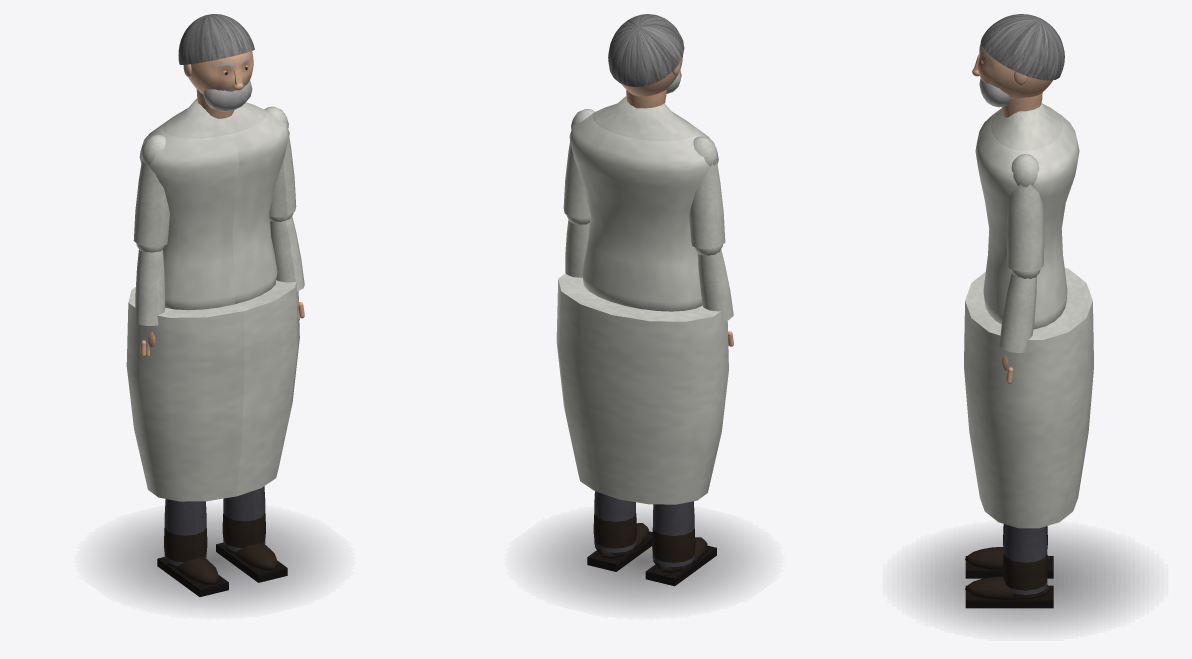
The model's file is npc_halloran.glb.
The picture shows the model from 3 angles, left to right: view 1: azimuth 30°, elevation 25°; view 2: azimuth 150°, elevation 25°; view 3: azimuth 270°, elevation 25°; orthographic projection. The views are drawn at different scales.
Visible parts, largest first — view 1: object 7, chest, object 12, head, shinL, shinR, armL, foreL, foreR, armR; view 2: object 7, chest, object 12, head, shinL, shinR, armL, foreL, armR, foreR; view 3: object 7, chest, object 12, head, shinR, armR, foreR, shinL.
Boxes of the visible parts, box(x1,y1,x2,y2) form: object 7: box(126, 280, 299, 501); chest: box(139, 89, 289, 310); object 12: box(102, 512, 327, 607); head: box(178, 14, 254, 111); shinL: box(157, 499, 228, 596); shinR: box(216, 486, 287, 582); armL: box(133, 134, 169, 247); foreL: box(135, 243, 165, 357); foreR: box(269, 213, 304, 320); armR: box(264, 106, 296, 217); object 7: box(556, 273, 728, 504); chest: box(569, 89, 718, 311); object 12: box(532, 513, 756, 607); head: box(608, 14, 684, 96); shinL: box(645, 501, 716, 586); shinR: box(587, 491, 652, 571); armL: box(689, 136, 725, 248); foreL: box(694, 244, 733, 346); armR: box(563, 109, 595, 219); foreR: box(565, 214, 589, 277); object 7: box(964, 268, 1093, 528); chest: box(975, 92, 1079, 329); object 12: box(911, 532, 1139, 628); head: box(972, 14, 1064, 107); shinR: box(965, 524, 1053, 608); armR: box(1006, 154, 1044, 271); foreR: box(999, 269, 1040, 384); shinL: box(965, 524, 1053, 578).
Bounding box in the file's own units: 0.868 × 1.79 × 0.868.
7 materials, 6 textured.
